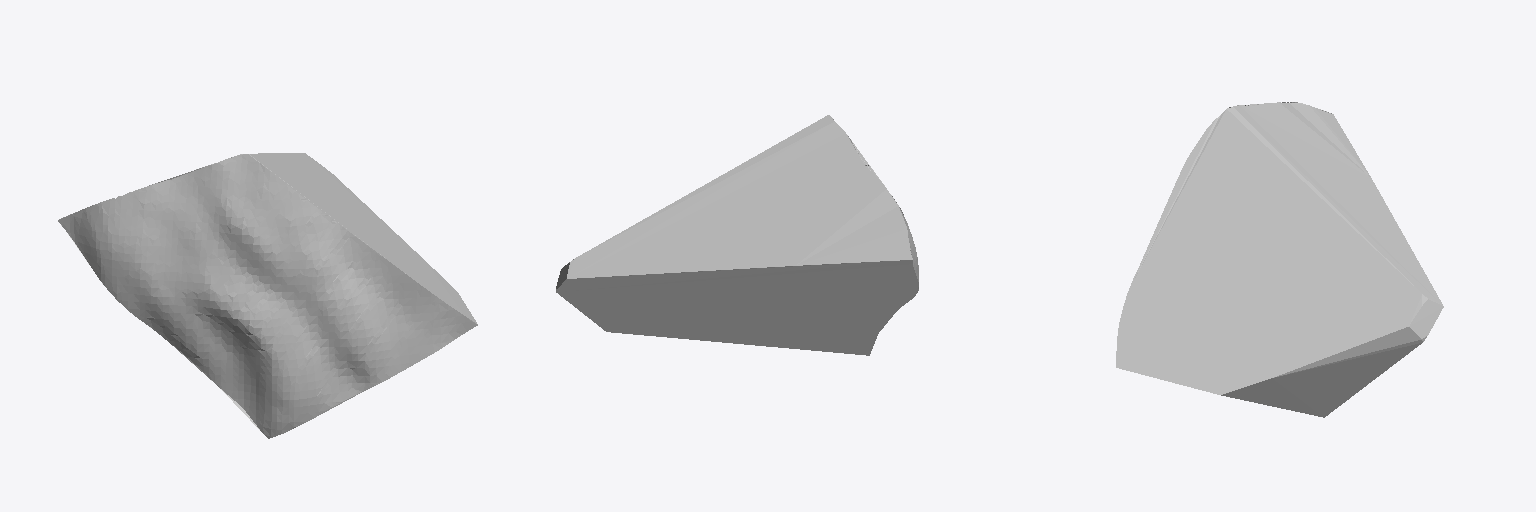
The model's file is low_cell_042.obj.
3 renders of one model, left to right at view 1: azimuth 30°, elevation 25°; view 2: azimuth 150°, elevation 25°; view 3: azimuth 270°, elevation 25°, orthographic.
Parts seen in each view (by area): view 1: low_cell.042_low_cell.041; view 2: low_cell.042_low_cell.041; view 3: low_cell.042_low_cell.041.
Boxes of the visible parts, <box> form: low_cell.042_low_cell.041: <box>58,153,477,438</box>; low_cell.042_low_cell.041: <box>556,115,918,355</box>; low_cell.042_low_cell.041: <box>1116,102,1443,417</box>.
Size of the model in its own units: 0.9519 by 0.691 by 0.7876.